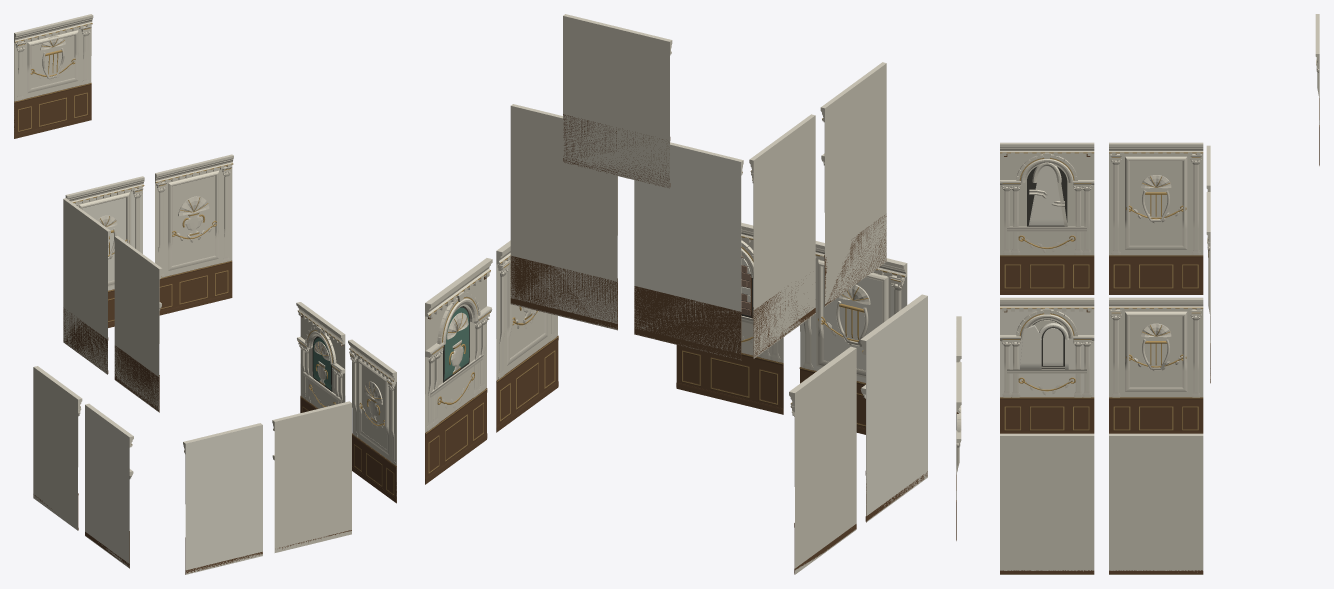
Rendered from conservatory-stair-walls.glb.
3 renders of one model, left to right at view 1: azimuth 30°, elevation 25°; view 2: azimuth 150°, elevation 25°; view 3: azimuth 270°, elevation 25°, orthographic. The views are drawn at different scales.
Parts seen in each view (by area): view 1: main_stair_wall_treatment; view 2: main_stair_wall_treatment; view 3: main_stair_wall_treatment.
Part boxes in pixels (box(x1,y1,x2,y2)): main_stair_wall_treatment: box(14, 14, 396, 574); main_stair_wall_treatment: box(425, 14, 927, 574); main_stair_wall_treatment: box(956, 14, 1319, 574).
Bounding box in the file's own units: 8.99 × 13.39 × 9.99.
